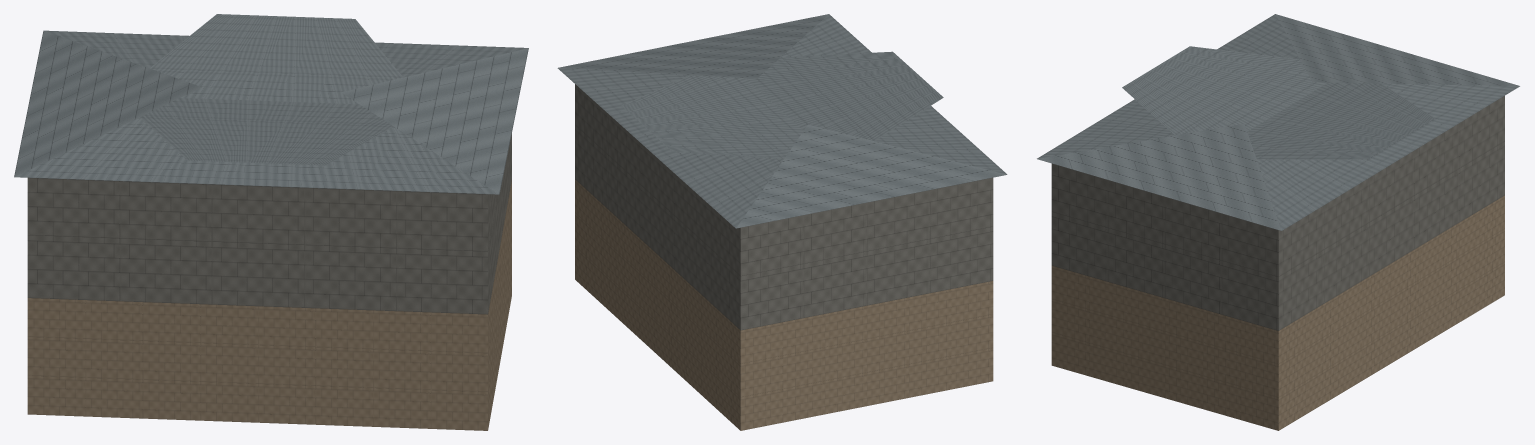
Rendered from bld_c8_18_423.gltf.
The picture shows the model from 3 angles, left to right: view 1: azimuth 30°, elevation 25°; view 2: azimuth 150°, elevation 25°; view 3: azimuth 270°, elevation 25°; orthographic projection. The views are drawn at different scales.
Visible parts, largest first — view 1: bld_c8_18_423; view 2: bld_c8_18_423; view 3: bld_c8_18_423.
Boxes of the visible parts, x1,y1,x2,y2 form: bld_c8_18_423: (14,14,528,430); bld_c8_18_423: (557,14,1007,430); bld_c8_18_423: (1037,14,1519,430).
Bounding box in the file's own units: 23.76 × 11.6 × 22.39.
Materials: 3 (3 with a texture image).
